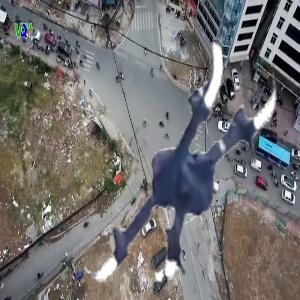drone: (34, 29, 298, 293)
